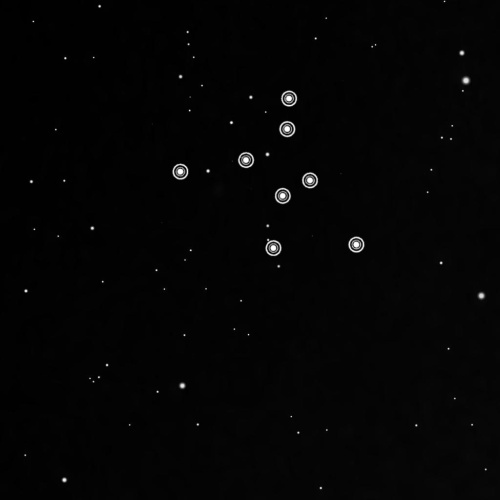hercules: (167, 85, 369, 263)
